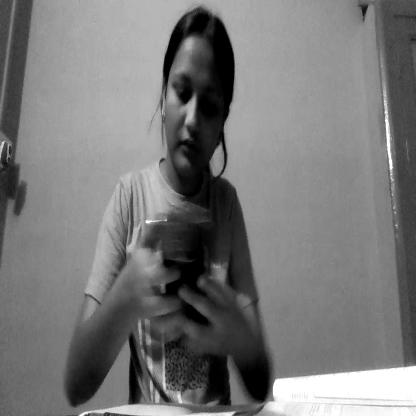Normal: (156, 11, 239, 202)
